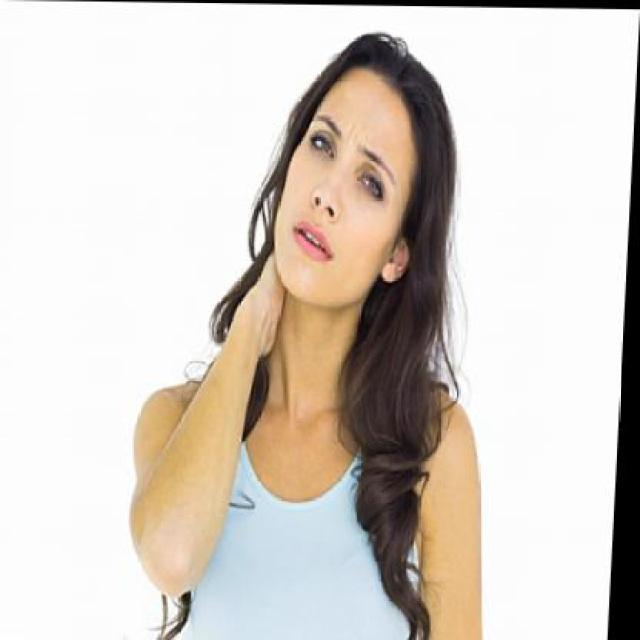Healthy: (257, 303, 358, 448)
